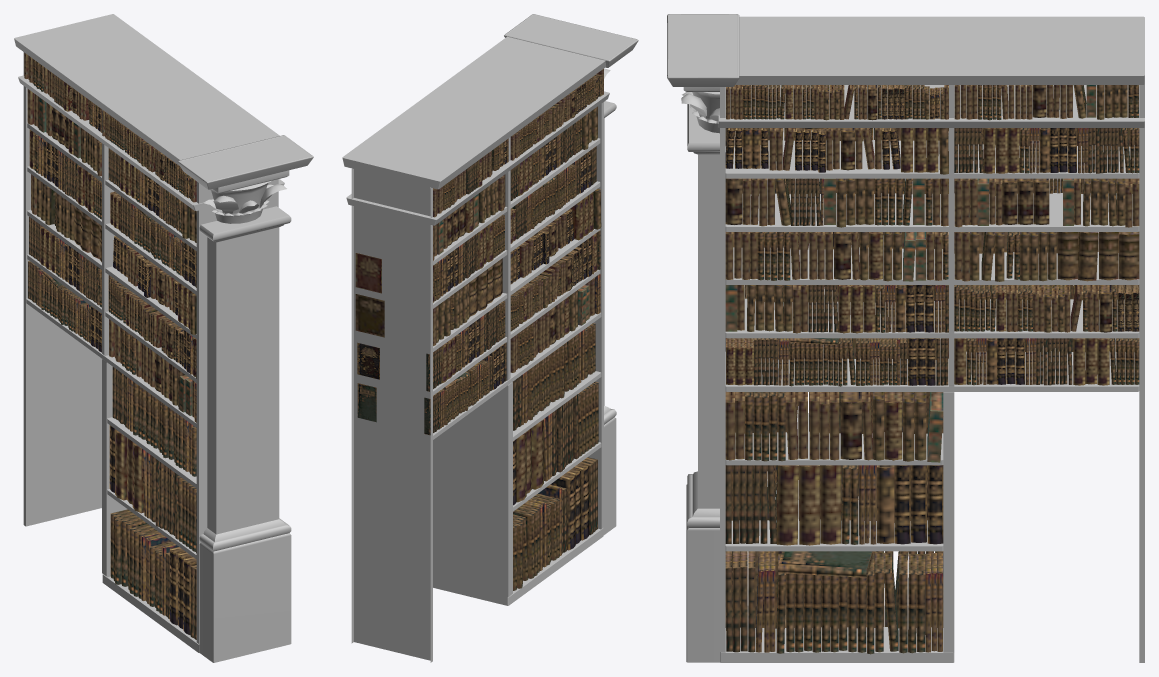
File: sm0599_libraryseta.fbx
The picture shows the model from 3 angles, left to right: view 1: azimuth 30°, elevation 25°; view 2: azimuth 150°, elevation 25°; view 3: azimuth 270°, elevation 25°; orthographic projection. The views are drawn at different scales.
Visible parts, largest first — view 1: LODGroup_1_MainMesh_1_SubMesh_3, LODGroup_1_MainMesh_1_SubMesh_1, LODGroup_1_MainMesh_1_SubMesh_4, LODGroup_1_MainMesh_1_SubMesh_2; view 2: LODGroup_1_MainMesh_1_SubMesh_3, LODGroup_1_MainMesh_1_SubMesh_1, LODGroup_1_MainMesh_1_SubMesh_2, LODGroup_1_MainMesh_1_SubMesh_4; view 3: LODGroup_1_MainMesh_1_SubMesh_1, LODGroup_1_MainMesh_1_SubMesh_3, LODGroup_1_MainMesh_1_SubMesh_4, LODGroup_1_MainMesh_1_SubMesh_2.
Part boxes in pixels (box(x1,y1,x2,y2)): LODGroup_1_MainMesh_1_SubMesh_3: box(14, 14, 284, 652); LODGroup_1_MainMesh_1_SubMesh_1: box(24, 52, 196, 639); LODGroup_1_MainMesh_1_SubMesh_4: box(177, 135, 313, 551); LODGroup_1_MainMesh_1_SubMesh_2: box(179, 136, 311, 662); LODGroup_1_MainMesh_1_SubMesh_3: box(342, 36, 609, 662); LODGroup_1_MainMesh_1_SubMesh_1: box(355, 69, 603, 590); LODGroup_1_MainMesh_1_SubMesh_2: box(506, 15, 636, 534); LODGroup_1_MainMesh_1_SubMesh_4: box(504, 14, 638, 424); LODGroup_1_MainMesh_1_SubMesh_1: box(725, 85, 1139, 654); LODGroup_1_MainMesh_1_SubMesh_3: box(718, 16, 1144, 662); LODGroup_1_MainMesh_1_SubMesh_4: box(667, 14, 739, 527); LODGroup_1_MainMesh_1_SubMesh_2: box(669, 15, 737, 662).
Bounding box in the file's own units: 135 × 586 × 427.
